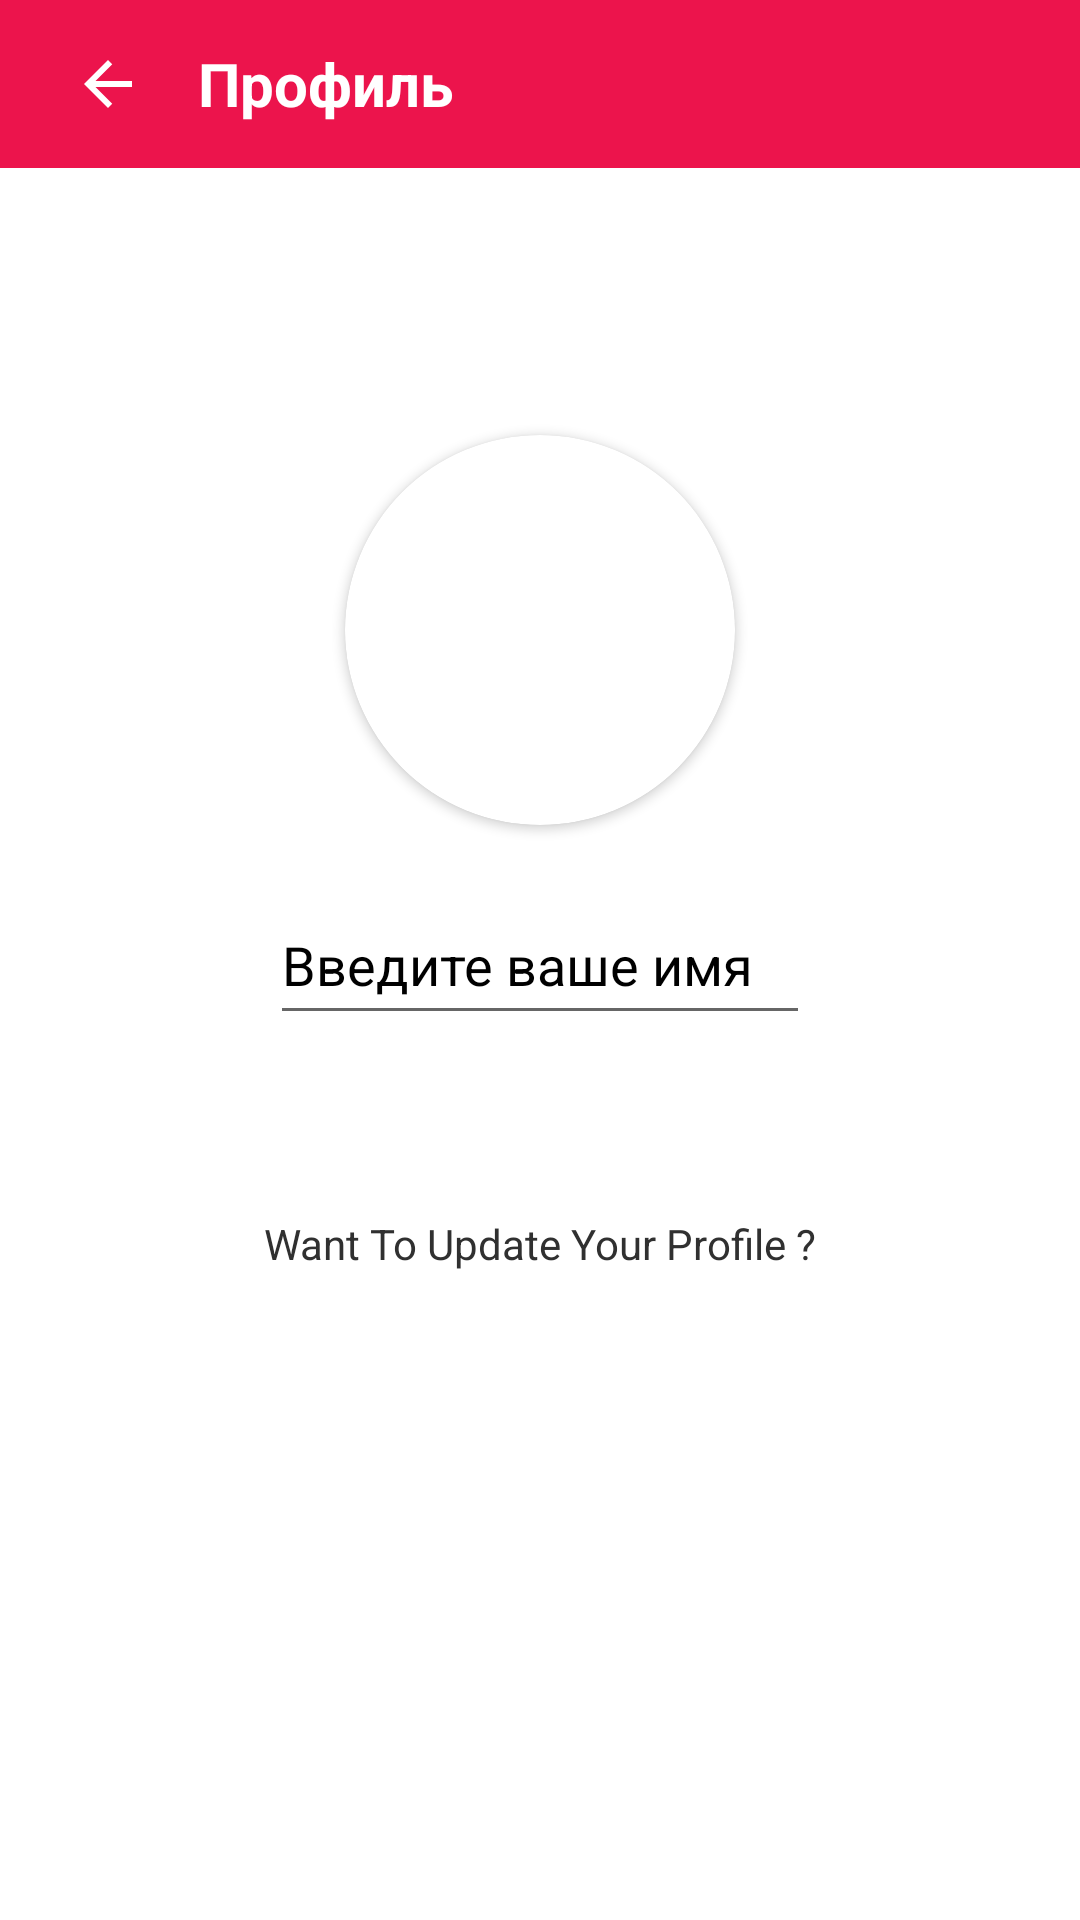

Where to tap for icons on this 1080 x 1920 app screen, as point (x, y):
arrow back: point (108, 84)
